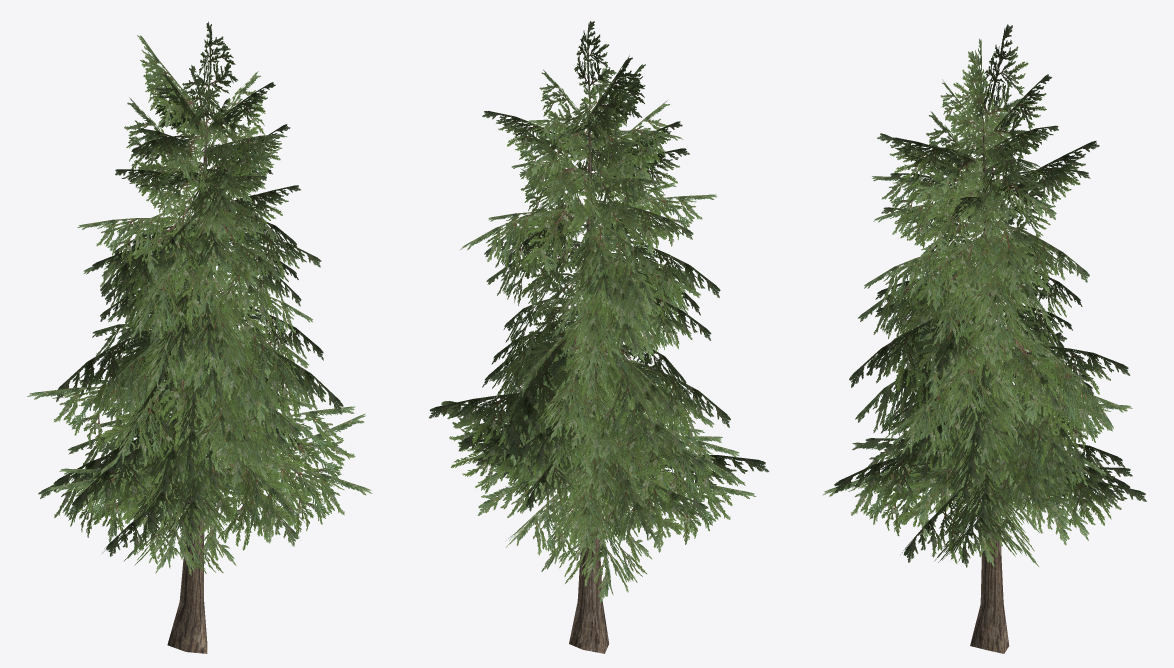
File: Taxodium_Distichum_Spring_Young.glb
3 renders of one model, left to right at view 1: azimuth 30°, elevation 25°; view 2: azimuth 150°, elevation 25°; view 3: azimuth 270°, elevation 25°, orthographic. The views are drawn at different scales.
Visible parts, largest first — view 1: Taxodium_Distichum_Spring_Young__LOD3; view 2: Taxodium_Distichum_Spring_Young__LOD3; view 3: Taxodium_Distichum_Spring_Young__LOD3.
Part boxes in pixels (<box>): Taxodium_Distichum_Spring_Young__LOD3: <box>27,21,372,653</box>; Taxodium_Distichum_Spring_Young__LOD3: <box>429,21,769,653</box>; Taxodium_Distichum_Spring_Young__LOD3: <box>822,24,1146,653</box>.
Size of the model in its own units: 8.23 by 15.28 by 7.87.
2 materials, 2 textured.
